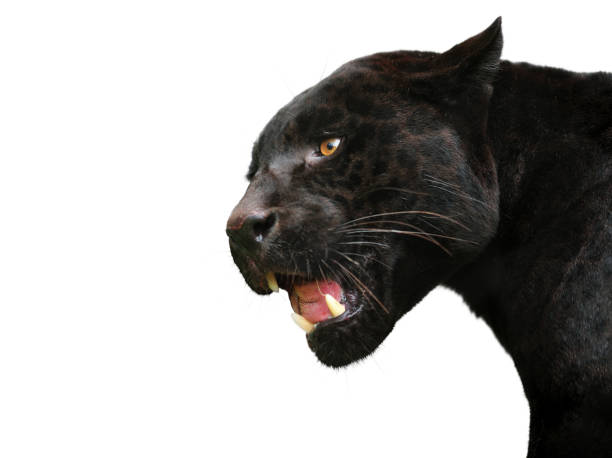panther: (164, 16, 551, 416)
